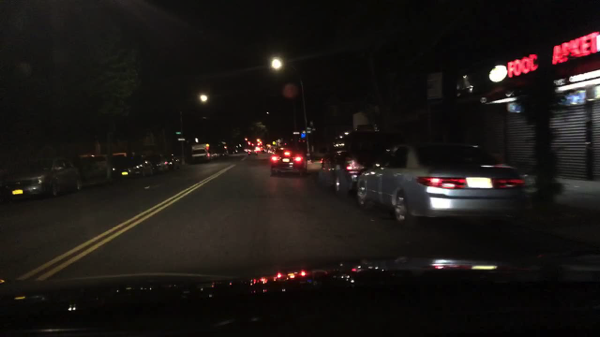car: (357, 141, 533, 233), (317, 125, 406, 199), (6, 158, 81, 200), (74, 155, 113, 188), (271, 147, 308, 177), (115, 154, 154, 178), (147, 155, 170, 176), (164, 154, 182, 172), (191, 148, 211, 163), (217, 148, 229, 159), (207, 148, 217, 159), (246, 146, 258, 154), (267, 147, 277, 154), (230, 148, 237, 154), (261, 147, 267, 153)
traffic sign: (425, 73, 444, 98), (282, 84, 299, 98), (300, 131, 307, 139), (177, 138, 186, 143), (271, 141, 278, 147), (307, 126, 315, 130), (175, 131, 182, 135), (292, 131, 300, 134), (307, 130, 313, 133)
